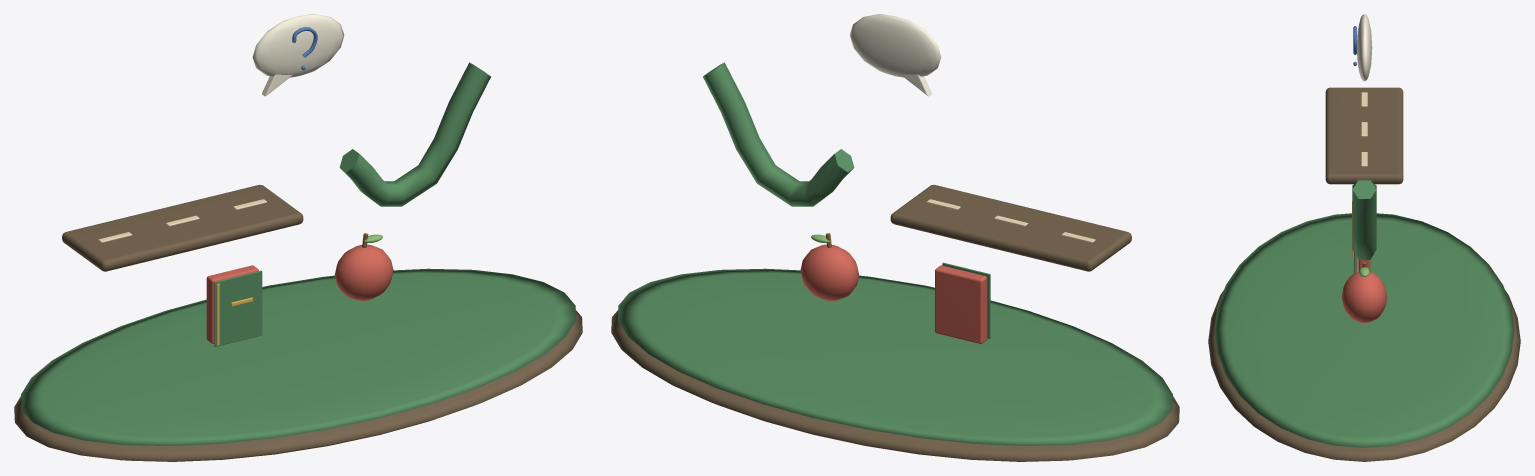
File: complete-first-or-question-alternatives.glb
3 views of the same model, side by side, from view 1: azimuth 30°, elevation 25°; view 2: azimuth 150°, elevation 25°; view 3: azimuth 270°, elevation 25° (orthographic). The views are drawn at different scales.
Visible parts, largest first — view 1: complete-first-or-question-alternatives_surface_01, complete-first-or-question-alternatives_surface_00, complete-first-or-question-alternatives_surface_07, complete-first-or-question-alternatives_surface_03; view 2: complete-first-or-question-alternatives_surface_01, complete-first-or-question-alternatives_surface_00, complete-first-or-question-alternatives_surface_03, complete-first-or-question-alternatives_surface_07; view 3: complete-first-or-question-alternatives_surface_01, complete-first-or-question-alternatives_surface_00, complete-first-or-question-alternatives_surface_03, complete-first-or-question-alternatives_surface_07, complete-first-or-question-alternatives_surface_02.
Part boxes in pixels (x1,y1,x2,y2): complete-first-or-question-alternatives_surface_01: [21, 62, 575, 445]; complete-first-or-question-alternatives_surface_00: [14, 184, 582, 461]; complete-first-or-question-alternatives_surface_07: [252, 14, 344, 96]; complete-first-or-question-alternatives_surface_03: [206, 244, 393, 343]; complete-first-or-question-alternatives_surface_01: [618, 62, 1172, 445]; complete-first-or-question-alternatives_surface_00: [611, 184, 1179, 461]; complete-first-or-question-alternatives_surface_03: [800, 244, 987, 343]; complete-first-or-question-alternatives_surface_07: [849, 14, 941, 96]; complete-first-or-question-alternatives_surface_01: [1214, 180, 1514, 447]; complete-first-or-question-alternatives_surface_00: [1208, 87, 1520, 461]; complete-first-or-question-alternatives_surface_03: [1341, 260, 1387, 323]; complete-first-or-question-alternatives_surface_07: [1357, 14, 1372, 81]; complete-first-or-question-alternatives_surface_02: [1356, 92, 1367, 272].
Size of the model in its own units: 4.56 by 2.96 by 2.5.
